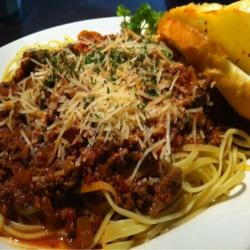bolonese_pasta: (9, 38, 216, 240)
